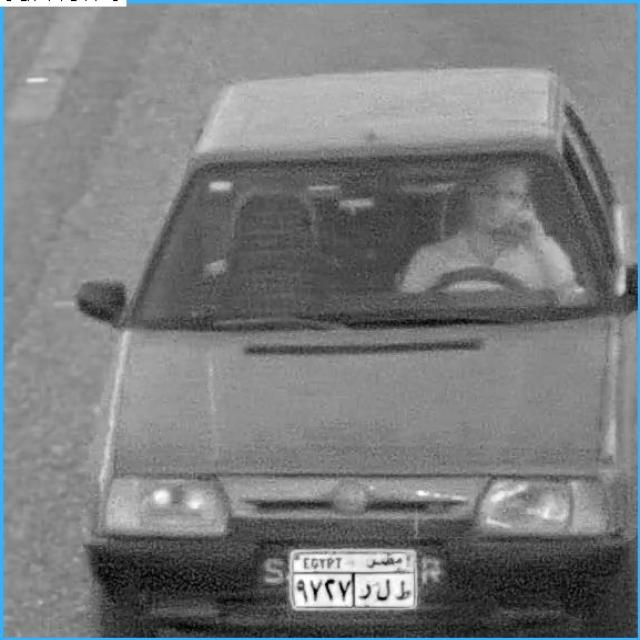windshield: (127, 149, 610, 313)
